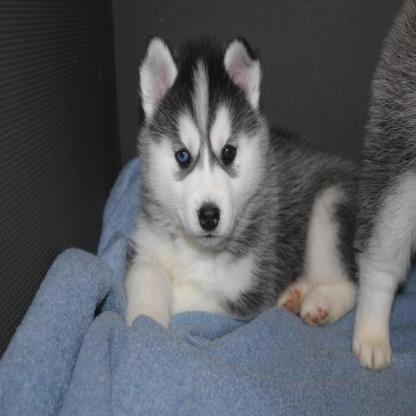husky: (116, 34, 363, 328), (351, 0, 416, 366)
